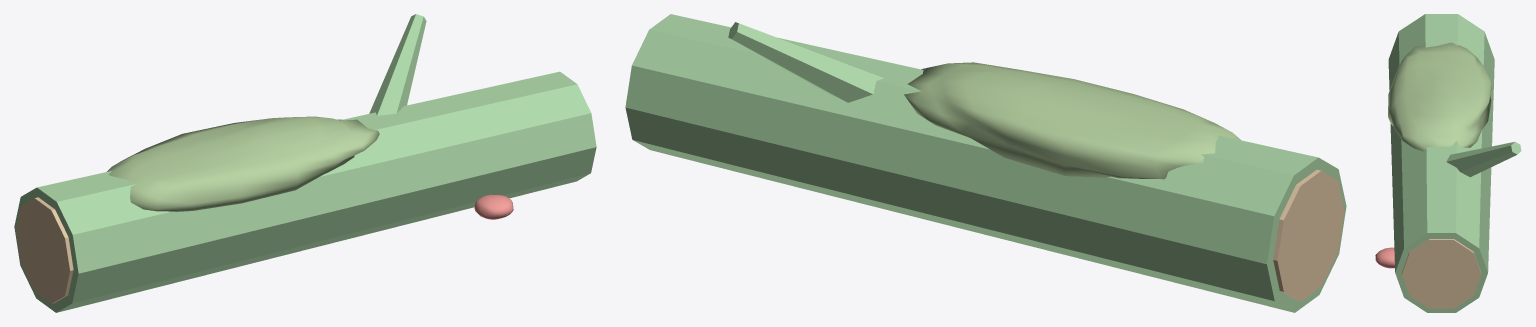
File: prop_log.glb
3 renders of one model, left to right at view 1: azimuth 30°, elevation 25°; view 2: azimuth 150°, elevation 25°; view 3: azimuth 270°, elevation 25°, orthographic. The views are drawn at different scales.
Parts seen in each view (by area): view 1: prop_log; view 2: prop_log; view 3: prop_log.
Part boxes in pixels (x1=…): prop_log: x1=14, y1=14, x2=596, y2=312; prop_log: x1=625, y1=14, x2=1346, y2=312; prop_log: x1=1375, y1=14, x2=1521, y2=312.
Size of the model in its own units: 3.04 by 0.868 by 0.88.
